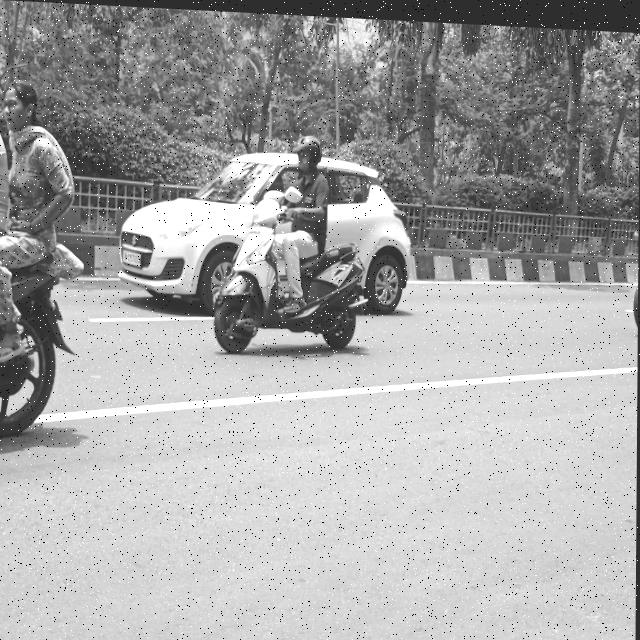bike: (209, 190, 368, 353)
car: (130, 120, 434, 327)
